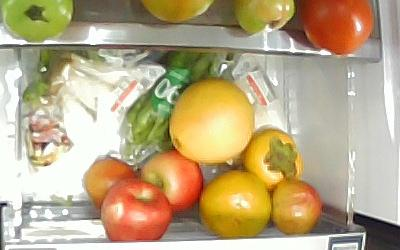apple: (101, 180, 171, 243), (140, 150, 204, 216)
grapefruit: (169, 79, 254, 165)
persimmon: (199, 171, 271, 239), (245, 126, 303, 189)
prune: (81, 156, 137, 211), (270, 180, 323, 236)
